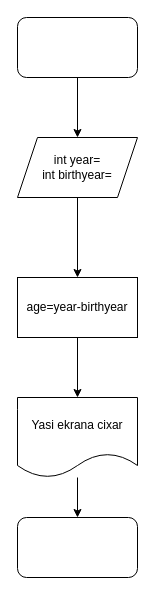
The diagram is 155 pixels wide and 595 high, and some of its shapes have lost their labels. Here are the shapes that lost their labels. From the top down, the centre of each, then its label:
At pixel 77 47: "Start".
At pixel 77 547: "end".
